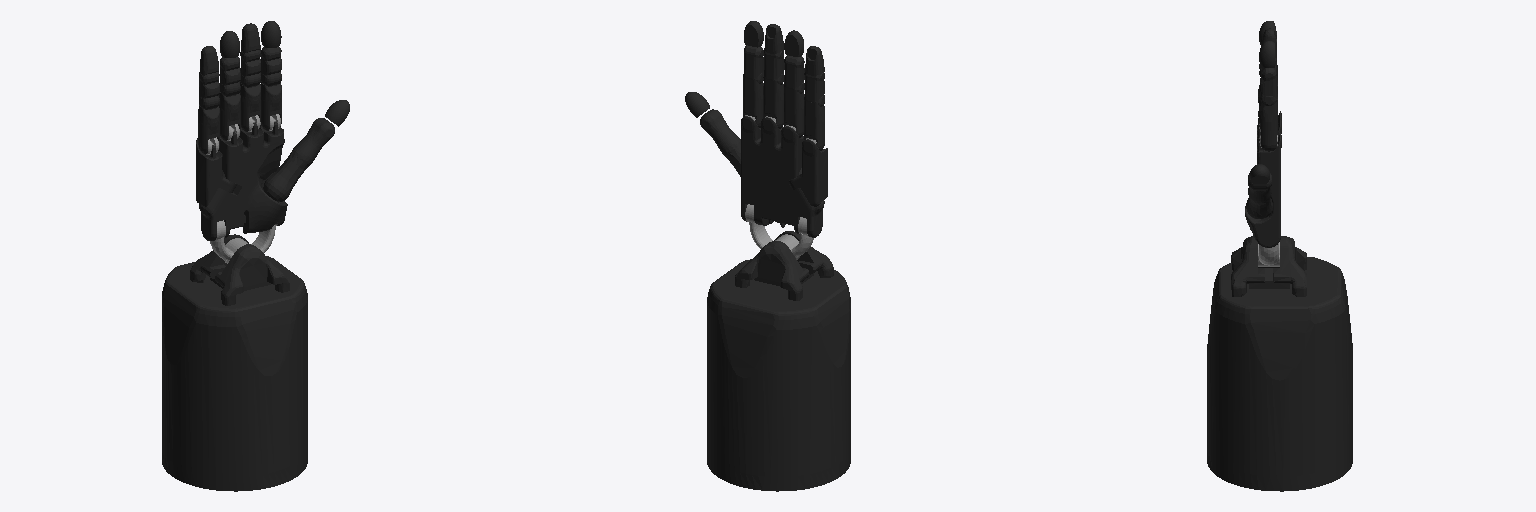
--- Facts derived from the render (not from the file) ---
Views: 3 orthographic renders of the robot side by side, from view 1: azimuth 30°, elevation 25°; view 2: azimuth 150°, elevation 25°; view 3: azimuth 270°, elevation 25°.
Robot: shadowhand — 30 links, 29 joints (24 revolute, 5 fixed); root link forearm; default pose: every joint at zero.
Visible links, largest first — view 1: forearm, palm, lfmetacarpal, thproximal, thmiddle, wrist, lfproximal, ffproximal, rfproximal, ffmiddle, rfmiddle, mfproximal (+2 smaller); view 2: forearm, palm, lfmetacarpal, wrist, thmiddle, lfproximal, mfproximal, rfproximal, ffproximal, rfmiddle, ffmiddle, mfmiddle (+1 smaller); view 3: forearm, palm, ffproximal, ffmiddle.
Boxes of the visible links, x1=… form: forearm: x1=162, y1=234, x2=307, y2=491; palm: x1=199, y1=122, x2=287, y2=240; lfmetacarpal: x1=196, y1=138, x2=236, y2=206; thproximal: x1=263, y1=150, x2=308, y2=202; thmiddle: x1=293, y1=118, x2=334, y2=165; wrist: x1=210, y1=220, x2=277, y2=263; lfproximal: x1=198, y1=105, x2=219, y2=154; ffproximal: x1=260, y1=82, x2=281, y2=130; rfproximal: x1=219, y1=92, x2=240, y2=140; ffmiddle: x1=261, y1=47, x2=281, y2=86; rfmiddle: x1=220, y1=57, x2=240, y2=96; mfproximal: x1=240, y1=82, x2=260, y2=131; forearm: x1=707, y1=231, x2=850, y2=491; palm: x1=741, y1=116, x2=824, y2=237; lfmetacarpal: x1=788, y1=139, x2=827, y2=206; wrist: x1=745, y1=204, x2=813, y2=259; thmiddle: x1=700, y1=109, x2=740, y2=156; lfproximal: x1=804, y1=101, x2=824, y2=150; mfproximal: x1=763, y1=79, x2=783, y2=128; rfproximal: x1=784, y1=87, x2=804, y2=137; ffproximal: x1=743, y1=78, x2=763, y2=127; rfmiddle: x1=784, y1=55, x2=804, y2=93; ffmiddle: x1=743, y1=45, x2=763, y2=83; mfmiddle: x1=763, y1=50, x2=784, y2=84; forearm: x1=1207, y1=236, x2=1352, y2=491; palm: x1=1245, y1=113, x2=1281, y2=247; ffproximal: x1=1258, y1=99, x2=1277, y2=151; ffmiddle: x1=1259, y1=66, x2=1277, y2=105.
Bounding box of the posed robot: 0.1788 × 0.1351 × 0.4454 m (x, y, z).
23 mesh visuals loaded from 11 distinct referenced files (11 Collada DAE).

URDF robot description (shadowhand):
<robot name="shadowhand">
  <material name="Blue">
    <color rgba="0.0 0.0 0.8 1.0" />
  </material>
  <material name="Green">
    <color rgba="0.0 0.8 0.0 1.0" />
  </material>
  <material name="Grey">
    <color rgba="0.2 0.2 0.2 1.0" />
  </material>
  <material name="LightGrey">
    <color rgba="0.6 0.6 0.6 1.0" />
  </material>
  <material name="Red">
    <color rgba="0.8 0.0 0.0 1.0" />
  </material>
  <material name="White">
    <color rgba="1.0 1.0 1.0 1.0" />
  </material>
  <link name="forearm">
    <inertial>
      <origin rpy="0 0 0" xyz="0 0 0.09" />
      <mass value="3.0" />
      <inertia ixx="1.0" ixy="0.0" ixz="0.0" iyy="1.0" iyz="0.0" izz="1.0" />
    </inertial>
    <visual>
      <origin rpy="0 0 0" xyz="0 0 0" />
      <geometry name="shadow_forearm_geom">
        <mesh filename="package://sr_grasp_description/meshes/forearm.dae" scale="0.1 0.1 0.1" />
      </geometry>
      <material name="Grey" />
    </visual>
    <collision>
      <origin rpy="0 0 0" xyz="0 0 0.09" />
      <geometry name="shadow_forearm_collision">
        <cylinder length="0.180" radius="0.06" />
      </geometry>
    </collision>
  </link>
  <link name="wrist">
    <inertial>
      <origin rpy="0 0 0" xyz="0 0.0 0.0" />

      <mass value="0.1" />
      <inertia ixx="0.120" ixy="0.0" ixz="0.0" iyy="0.148" iyz="0.0" izz="0.0438" />
    </inertial>
    <visual>
      <origin rpy="0 0 0" xyz="0 0 0" />
      <geometry name="wrist_visual">
        <mesh filename="package://sr_grasp_description/meshes/wrist.dae" scale="0.1 0.1 0.1" />
      </geometry>
      <material name="LightGrey" />
    </visual>
    <collision>
      <origin rpy="0 0 0" xyz="0 0 0" />
      <geometry name="wrist_collision_geom">
        <box size="0.02 0.02 0.02" />
      </geometry>
    </collision>
  </link>
  <joint name="WRJ2" type="revolute">
    <parent link="forearm" />
    <child link="wrist" />

    <origin rpy="0 0 0" xyz="0 -0.010 0.213" />
    <axis xyz="0 1 0" />
    <limit effort="5" lower="-0.52359877559829882" upper="0.17453292519943295" velocity="1.0" />
    <dynamics damping="100.5" />
  </joint>
  <link name="palm">
    <inertial>
      <origin rpy="0 0 0" xyz="0 0 0.035" />
      <mass value="0.3" />
      <inertia ixx="0.5" ixy="0.0" ixz="0.0" iyy="0.5" iyz="0.0" izz="0.3" />
    </inertial>
    <visual>
      <origin rpy="0 0 0" xyz="0 0 0" />
      <geometry name="palm_visual">
        <mesh filename="package://sr_grasp_description/meshes/palm.dae" scale="0.1 0.1 0.1" />
      </geometry>
      <material name="Grey" />
    </visual>
    <collision>
      <origin rpy="0 0 0" xyz="0.005 0 0.035" />
      <geometry name="palm_collision_geom">
        <box size="0.05 0.02 0.07" />
      </geometry>
    </collision>
  </link>
  <joint name="WRJ1" type="revolute">
    <parent link="wrist" />
    <child link="palm" />
    <origin rpy="0 0 0" xyz="0 0 0.034" />
    <axis xyz="1 0 0" />
    <limit effort="5" lower="-0.78539816339744828" upper="0.6108652381980153" velocity="1.0" />
    <dynamics damping="100.5" />
  </joint>
  <link name="ffknuckle">
    <inertial>
      <origin rpy="0 0 0" xyz="0 0 0" />

      <mass value="0.008" />
      <inertia ixx="0.0" ixy="0.0" ixz="0.0" iyy="0.1" iyz="0.0" izz="0.0" />
    </inertial>
    <visual>
      <origin rpy="0 0 0" xyz="0 0 0.0005" />
      <geometry name="knuckle_visual">
        <mesh filename="package://sr_grasp_description/meshes/knuckle.dae" scale="0.1 0.1 0.1" />
      </geometry>
      <material name="LightGrey" />
    </visual>
    <collision>
      <origin rpy="0 0 0" xyz="0 0 0" />
      <geometry name="knuckle_collision_geom">
        <box size="0.005 0.005 0.005" />
      </geometry>
    </collision>
  </link>
  <joint name="FFJ4" type="revolute">
    <parent link="palm" />
    <child link="ffknuckle" />

    <origin rpy="0 0 0" xyz="0.033 0 0.095" />
    <axis xyz="0 -1 0" />
    <limit effort="100" lower="-0.43633231299858238" upper="0.43633231299858238" velocity="1.0" />
    <dynamics damping="50.5" />
  </joint>
  <link name="ffproximal">
    <inertial>
      <mass value="0.014" />
      <origin xyz="0 0 0.0225" />
      <inertia ixx="0.1" ixy="0.0" ixz="0.0" iyy="0.1" iyz="0.0" izz="0.0" />
    </inertial>
    <visual>
      <origin rpy="0 0 0" xyz="0 0 0" />
      <geometry name="proximal_visual">
        <mesh filename="package://sr_grasp_description/meshes/F3.dae" scale="0.1 0.1 0.1" />
      </geometry>
      <material name="Grey" />
    </visual>
    <collision>
      <origin rpy="0 0 0 " xyz="0 0 0.025" />
      <geometry name="proximal_collision_geom">
        <box size="0.008 0.008 0.04" />
      </geometry>
    </collision>
  </link>
  <joint name="FFJ3" type="revolute">
    <parent link="ffknuckle" />
    <child link="ffproximal" />
    <origin rpy="0 0 0" xyz="0 0 0" />
    <axis xyz="1 0 0" />
    <limit effort="100" lower="0" upper="1.57079632679" velocity="1.0" />
    <dynamics damping="50.5" />
  </joint>
  <link name="ffmiddle">
    <inertial>
      <origin rpy="0 0 0" xyz="0 0 0.0125" />
      <mass value="0.012" />
      <inertia ixx="0.1" ixy="0.0" ixz="0.0" iyy="0.1" iyz="0.0" izz="0.0" />
    </inertial>
    <visual>
      <origin rpy="0 0 0" xyz="0 0 0" />
      <geometry name="middle_visual">
        <mesh filename="package://sr_grasp_description/meshes/F2.dae" scale="0.1 0.1 0.1" />
      </geometry>
      <material name="Grey" />
    </visual>
    <collision>
      <origin rpy="0 0 0" xyz="0 0 0.0125" />
      <geometry name="middle_collision_geom">
        <box size="0.008 0.008 0.015" />
      </geometry>
    </collision>
  </link>
  <joint name="FFJ2" type="revolute">
    <parent link="ffproximal" />
    <child link="ffmiddle" />
    <origin rpy="0 0 0" xyz="0 0 0.045" />
    <axis xyz="1 0 0" />
    <limit effort="100" lower="0" upper="1.57079632679" velocity="1.0" />
    <dynamics damping="50.5" />
  </joint>
  <link name="ffdistal">
    <inertial>
      <mass value="0.010" />
      <origin xyz="0 0 0.013" />
      <inertia ixx="0.1" ixy="0.0" ixz="0.0" iyy="0.1" iyz="0.0" izz="0.0" />
    </inertial>
    <visual>
      <origin rpy="0 0 0" xyz="0 0 0" />
      <geometry name="distal_visual">
        <mesh filename="package://sr_grasp_description/meshes/distal_ellipsoid.dae" scale="0.1 0.1 0.1" />
      </geometry>
      <material name="Grey" />
    </visual>

    <collision>
      <origin rpy="0 0 0" xyz="0 0 0" />
      <geometry name="distal_collision_geom">
        <mesh filename="package://sr_grasp_description/meshes/distal_ellipsoid.dae" scale="0.1 0.1 0.1" />
      </geometry>
    </collision>
  </link>
  <joint name="FFJ1" type="revolute">
    <parent link="ffmiddle" />
    <child link="ffdistal" />
    <origin rpy="0 0 0" xyz="0 0 0.025" />
    <axis xyz="1 0 0" />
    <limit effort="100" lower="0" upper="1.57079632679" velocity="1.0" />
    <dynamics damping="50.5" />
  </joint>
  <link name="fftip">
    <inertial>
      <mass value="0.001" />
      <inertia ixx="0.0" ixy="0.0" ixz="0.0" iyy="0.0" iyz="0.0" izz="0.0" />
    </inertial>
  </link>
  <joint name="FFtip" type="fixed">
    <parent link="ffdistal" />
    <child link="fftip" />
    <origin rpy="0 0 0" xyz="0 0 0.026" />
  </joint>
  <link name="mfknuckle">
    <inertial>
      <origin rpy="0 0 0" xyz="0 0 0" />

      <mass value="0.008" />
      <inertia ixx="0.0" ixy="0.0" ixz="0.0" iyy="0.1" iyz="0.0" izz="0.0" />
    </inertial>
    <visual>
      <origin rpy="0 0 0" xyz="0 0 0.0005" />
      <geometry name="knuckle_visual">
        <mesh filename="package://sr_grasp_description/meshes/knuckle.dae" scale="0.1 0.1 0.1" />
      </geometry>
      <material name="LightGrey" />
    </visual>
    <collision>
      <origin rpy="0 0 0" xyz="0 0 0" />
      <geometry name="knuckle_collision_geom">
        <box size="0.005 0.005 0.005" />
      </geometry>
    </collision>
  </link>
  <joint name="MFJ4" type="revolute">
    <parent link="palm" />
    <child link="mfknuckle" />

    <origin rpy="0 0 0" xyz="0.011 0 0.099" />
    <axis xyz="0 -1 0" />
    <limit effort="100" lower="-0.43633231299858238" upper="0.43633231299858238" velocity="1.0" />
    <dynamics damping="50.5" />
  </joint>
  <link name="mfproximal">
    <inertial>
      <mass value="0.014" />
      <origin xyz="0 0 0.0225" />
      <inertia ixx="0.1" ixy="0.0" ixz="0.0" iyy="0.1" iyz="0.0" izz="0.0" />
    </inertial>
    <visual>
      <origin rpy="0 0 0" xyz="0 0 0" />
      <geometry name="proximal_visual">
        <mesh filename="package://sr_grasp_description/meshes/F3.dae" scale="0.1 0.1 0.1" />
      </geometry>
      <material name="Grey" />
    </visual>
    <collision>
      <origin rpy="0 0 0 " xyz="0 0 0.025" />
      <geometry name="proximal_collision_geom">
        <box size="0.008 0.008 0.04" />
      </geometry>
    </collision>
  </link>
  <joint name="MFJ3" type="revolute">
    <parent link="mfknuckle" />
    <child link="mfproximal" />
    <origin rpy="0 0 0" xyz="0 0 0" />
    <axis xyz="1 0 0" />
    <limit effort="100" lower="0" upper="1.57079632679" velocity="1.0" />
    <dynamics damping="50.5" />
  </joint>
  <link name="mfmiddle">
    <inertial>
      <origin rpy="0 0 0" xyz="0 0 0.0125" />
      <mass value="0.012" />
      <inertia ixx="0.1" ixy="0.0" ixz="0.0" iyy="0.1" iyz="0.0" izz="0.0" />
    </inertial>
    <visual>
      <origin rpy="0 0 0" xyz="0 0 0" />
      <geometry name="middle_visual">
        <mesh filename="package://sr_grasp_description/meshes/F2.dae" scale="0.1 0.1 0.1" />
      </geometry>
      <material name="Grey" />
    </visual>
    <collision>
      <origin rpy="0 0 0" xyz="0 0 0.0125" />
      <geometry name="middle_collision_geom">
        <box size="0.008 0.008 0.015" />
      </geometry>
    </collision>
  </link>
  <joint name="MFJ2" type="revolute">
    <parent link="mfproximal" />
    <child link="mfmiddle" />
    <origin rpy="0 0 0" xyz="0 0 0.045" />
    <axis xyz="1 0 0" />
    <limit effort="100" lower="0" upper="1.57079632679" velocity="1.0" />
    <dynamics damping="50.5" />
  </joint>
  <link name="mfdistal">
    <inertial>
      <mass value="0.010" />
      <origin xyz="0 0 0.013" />
      <inertia ixx="0.1" ixy="0.0" ixz="0.0" iyy="0.1" iyz="0.0" izz="0.0" />
    </inertial>
    <visual>
      <origin rpy="0 0 0" xyz="0 0 0" />
      <geometry name="distal_visual">
        <mesh filename="package://sr_grasp_description/meshes/F1.dae" scale="0.1 0.1 0.1" />
      </geometry>
      <material name="Grey" />
    </visual>

    <collision>
      <origin rpy="0 0 0" xyz="0 0 0" />
      <geometry name="distal_collision_geom">
        <mesh filename="package://sr_grasp_description/meshes/F1.dae" scale="0.1 0.1 0.1" />
      </geometry>
    </collision>
  </link>
  <joint name="MFJ1" type="revolute">
    <parent link="mfmiddle" />
    <child link="mfdistal" />
    <origin rpy="0 0 0" xyz="0 0 0.025" />
    <axis xyz="1 0 0" />
    <limit effort="100" lower="0" upper="1.57079632679" velocity="1.0" />
    <dynamics damping="50.5" />
  </joint>
  <link name="mftip">
    <inertial>
      <mass value="0.001" />
      <inertia ixx="0.0" ixy="0.0" ixz="0.0" iyy="0.0" iyz="0.0" izz="0.0" />
    </inertial>
  </link>
  <joint name="MFtip" type="fixed">
    <parent link="mfdistal" />
    <child link="mftip" />
    <origin rpy="0 0 0" xyz="0 0 0.026" />
  </joint>
  <link name="rfknuckle">
    <inertial>
      <origin rpy="0 0 0" xyz="0 0 0" />

      <mass value="0.008" />
      <inertia ixx="0.0" ixy="0.0" ixz="0.0" iyy="0.1" iyz="0.0" izz="0.0" />
    </inertial>
    <visual>
      <origin rpy="0 0 0" xyz="0 0 0.0005" />
      <geometry name="knuckle_visual">
        <mesh filename="package://sr_grasp_description/meshes/knuckle.dae" scale="0.1 0.1 0.1" />
      </geometry>
      <material name="LightGrey" />
    </visual>
    <collision>
      <origin rpy="0 0 0" xyz="0 0 0" />
      <geometry name="knuckle_collision_geom">
        <box size="0.005 0.005 0.005" />
      </geometry>
    </collision>
  </link>
  <joint name="RFJ4" type="revolute">
    <parent link="palm" />
    <child link="rfknuckle" />

    <origin rpy="0 0 0" xyz="-0.011 0 0.095" />
    <axis xyz="0 1 0" />
    <limit effort="100" lower="-0.43633231299858238" upper="0.43633231299858238" velocity="1.0" />
    <dynamics damping="50.5" />
  </joint>
  <link name="rfproximal">
    <inertial>
      <mass value="0.014" />
      <origin xyz="0 0 0.0225" />
      <inertia ixx="0.1" ixy="0.0" ixz="0.0" iyy="0.1" iyz="0.0" izz="0.0" />
    </inertial>
    <visual>
      <origin rpy="0 0 0" xyz="0 0 0" />
      <geometry name="proximal_visual">
        <mesh filename="package://sr_grasp_description/meshes/F3.dae" scale="0.1 0.1 0.1" />
      </geometry>
      <material name="Grey" />
    </visual>
    <collision>
      <origin rpy="0 0 0 " xyz="0 0 0.025" />
      <geometry name="proximal_collision_geom">
        <box size="0.008 0.008 0.04" />
      </geometry>
    </collision>
  </link>
  <joint name="RFJ3" type="revolute">
    <parent link="rfknuckle" />
    <child link="rfproximal" />
    <origin rpy="0 0 0" xyz="0 0 0" />
    <axis xyz="1 0 0" />
    <limit effort="100" lower="0" upper="1.57079632679" velocity="1.0" />
    <dynamics damping="50.5" />
  </joint>
  <link name="rfmiddle">
    <inertial>
      <origin rpy="0 0 0" xyz="0 0 0.0125" />
      <mass value="0.012" />
      <inertia ixx="0.1" ixy="0.0" ixz="0.0" iyy="0.1" iyz="0.0" izz="0.0" />
    </inertial>
    <visual>
      <origin rpy="0 0 0" xyz="0 0 0" />
      <geometry name="middle_visual">
        <mesh filename="package://sr_grasp_description/meshes/F2.dae" scale="0.1 0.1 0.1" />
      </geometry>
      <material name="Grey" />
    </visual>
    <collision>
      <origin rpy="0 0 0" xyz="0 0 0.0125" />
      <geometry name="middle_collision_geom">
        <box size="0.008 0.008 0.015" />
      </geometry>
    </collision>
  </link>
  <joint name="RFJ2" type="revolute">
    <parent link="rfproximal" />
    <child link="rfmiddle" />
    <origin rpy="0 0 0" xyz="0 0 0.045" />
    <axis xyz="1 0 0" />
    <limit effort="100" lower="0" upper="1.57079632679" velocity="1.0" />
    <dynamics damping="50.5" />
  </joint>
  <link name="rfdistal">
    <inertial>
      <mass value="0.010" />
      <origin xyz="0 0 0.013" />
      <inertia ixx="0.1" ixy="0.0" ixz="0.0" iyy="0.1" iyz="0.0" izz="0.0" />
    </inertial>
    <visual>
      <origin rpy="0 0 0" xyz="0 0 0" />
      <geometry name="distal_visual">
        <mesh filename="package://sr_grasp_description/meshes/distal_ellipsoid.dae" scale="0.1 0.1 0.1" />
      </geometry>
      <material name="Grey" />
    </visual>

    <collision>
      <origin rpy="0 0 0" xyz="0 0 0" />
      <geometry name="distal_collision_geom">
        <mesh filename="package://sr_grasp_description/meshes/distal_ellipsoid.dae" scale="0.1 0.1 0.1" />
      </geometry>
    </collision>
  </link>
  <joint name="RFJ1" type="revolute">
    <parent link="rfmiddle" />
    <child link="rfdistal" />
    <origin rpy="0 0 0" xyz="0 0 0.025" />
    <axis xyz="1 0 0" />
    <limit effort="100" lower="0" upper="1.57079632679" velocity="1.0" />
    <dynamics damping="50.5" />
  </joint>
  <link name="rftip">
    <inertial>
      <mass value="0.001" />
      <inertia ixx="0.0" ixy="0.0" ixz="0.0" iyy="0.0" iyz="0.0" izz="0.0" />
    </inertial>
  </link>
  <joint name="RFtip" type="fixed">
    <parent link="rfdistal" />
    <child link="rftip" />
    <origin rpy="0 0 0" xyz="0 0 0.026" />
  </joint>
  <link name="lfmetacarpal">
    <inertial>
      <origin rpy="0 0 0" xyz="0 0 0.04" />
      <mass value="0.075" />
      <inertia ixx="0.1" ixy="0.0" ixz="0.0" iyy="0.1" iyz="0.0" izz="0.1" />
    </inertial>
    <visual>
      <origin rpy="0 0 0" xyz="0 0 0" />
      <geometry name="lfmetacarpal_visual">
        <mesh filename="package://sr_grasp_description/meshes/lfmetacarpal.dae" scale="0.1 0.1 0.1" />
      </geometry>
      <material name="Grey" />
    </visual>
    <collision>
      <origin rpy="0 0 0" xyz="0 0 0.04" />
      <geometry name="lfmetacarpal_collision_geom">
        <box size="0.008 0.008 0.03" />
      </geometry>
    </collision>
  </link>
  <joint name="LFJ5" type="revolute">
    <parent link="palm" />
    <child link="lfmetacarpal" />
    <origin rpy="0 0 0" xyz="-0.033 0 0.02071" />
    <axis xyz="0.573576436 0 0.819152044" />
    <limit effort="100" lower="0" upper="0.69813170079773179" velocity="1.0" />
    <dynamics damping="50.5" />
  </joint>
  <link name="lfknuckle">
    <inertial>
      <origin rpy="0 0 0" xyz="0 0 0.06579" />
      <mass value="0.008" />
      <inertia ixx="0.1" ixy="0.0" ixz="0.0" iyy="0.1" iyz="0.0" izz="0.1" />
    </inertial>
    <visual>
      <origin rpy="0 0 0" xyz="0 0 0" />
      <geometry name="knuckle_visual">
        <mesh filename="package://sr_grasp_description/meshes/knuckle.dae" scale="0.1 0.1 0.1" />
      </geometry>
      <material name="LightGrey" />
    </visual>
    <collision>
      <origin rpy="0 0 0" xyz="0 0 0" />
      <geometry name="knuckle_collision_geom">
        <box size="0.005 0.005 0.005" />
      </geometry>
    </collision>
  </link>
  <joint name="LFJ4" type="revolute">
    <parent link="lfmetacarpal" />
    <child link="lfknuckle" />
    <origin rpy="0 0 0" xyz="0 0 0.06579" />
    <axis xyz="0 1 0" />
    <limit effort="100" lower="-0.43633231299858238" upper="0.43633231299858238" velocity="1.0" />
    <dynamics damping="50.5" />
  </joint>
  <link name="lfproximal">
    <inertial>
      <mass value="0.014" />
      <origin xyz="0 0 0.0225" />
      <inertia ixx="0.1" ixy="0.0" ixz="0.0" iyy="0.1" iyz="0.0" izz="0.0" />
    </inertial>
    <visual>
      <origin rpy="0 0 0" xyz="0 0 0" />
      <geometry name="proximal_visual">
        <mesh filename="package://sr_grasp_description/meshes/F3.dae" scale="0.1 0.1 0.1" />
      </geometry>
      <material name="Grey" />
    </visual>
    <collision>
      <origin rpy="0 0 0 " xyz="0 0 0.025" />
      <geometry name="proximal_collision_geom">
        <box size="0.008 0.008 0.04" />
      </geometry>
    </collision>
  </link>
  <joint name="LFJ3" type="revolute">
    <parent link="lfknuckle" />
    <child link="lfproximal" />
    <origin rpy="0 0 0" xyz="0 0 0" />
    <axis xyz="1 0 0" />
    <limit effort="100" lower="0" upper="1.57079632679" velocity="1.0" />
    <dynamics damping="50.5" />
  </joint>
  <link name="lfmiddle">
    <inertial>
      <origin rpy="0 0 0" xyz="0 0 0.0125" />
      <mass value="0.012" />
      <inertia ixx="0.1" ixy="0.0" ixz="0.0" iyy="0.1" iyz="0.0" izz="0.0" />
    </inertial>
    <visual>
      <origin rpy="0 0 0" xyz="0 0 0" />
      <geometry name="middle_visual">
        <mesh filename="package://sr_grasp_description/meshes/F2.dae" scale="0.1 0.1 0.1" />
      </geometry>
      <material name="Grey" />
    </visual>
    <collision>
      <origin rpy="0 0 0" xyz="0 0 0.0125" />
      <geometry name="middle_collision_geom">
        <box size="0.008 0.008 0.015" />
      </geometry>
    </collision>
  </link>
  <joint name="LFJ2" type="revolute">
    <parent link="lfproximal" />
    <child link="lfmiddle" />
    <origin rpy="0 0 0" xyz="0 0 0.045" />
    <axis xyz="1 0 0" />
    <limit effort="100" lower="0" upper="1.57079632679" velocity="1.0" />
    <dynamics damping="50.5" />
  </joint>
  <link name="lfdistal">
    <inertial>
      <mass value="0.010" />
      <origin xyz="0 0 0.013" />
      <inertia ixx="0.1" ixy="0.0" ixz="0.0" iyy="0.1" iyz="0.0" izz="0.0" />
    </inertial>
    <visual>
      <origin rpy="0 0 0" xyz="0 0 0" />
      <geometry name="distal_visual">
        <mesh filename="package://sr_grasp_description/meshes/F1.dae" scale="0.1 0.1 0.1" />
      </geometry>
      <material name="Grey" />
    </visual>

    <collision>
      <origin rpy="0 0 0" xyz="0 0 0" />
      <geometry name="distal_collision_geom">
        <mesh filename="package://sr_grasp_description/meshes/F1.dae" scale="0.1 0.1 0.1" />
      </geometry>
    </collision>
  </link>
  <joint name="LFJ1" type="revolute">
    <parent link="lfmiddle" />
    <child link="lfdistal" />
    <origin rpy="0 0 0" xyz="0 0 0.025" />
    <axis xyz="1 0 0" />
    <limit effort="100" lower="0" upper="1.57079632679" velocity="1.0" />
    <dynamics damping="50.5" />
  </joint>
  <link name="lftip">
    <inertial>
      <mass value="0.001" />
      <inertia ixx="0.0" ixy="0.0" ixz="0.0" iyy="0.0" iyz="0.0" izz="0.0" />
    </inertial>
  </link>
  <joint name="LFtip" type="fixed">
    <parent link="lfdistal" />
    <child link="lftip" />
    <origin rpy="0 0 0" xyz="0 0 0.026" />
  </joint>
  <link name="thbase">
    <inertial>
      <mass value="0.010" />
      <origin rpy="0 0 0" xyz="0 0 0" />
      <inertia ixx="0.0" ixy="0.0" ixz="0.0" iyy="0.0" iyz="0.0" izz="0.1" />
    </inertial>
    <visual>
      <origin rpy="0 0 0" xyz="0 0 0" />
      <geometry name="thbase_visual">
        <box size="0.001 0.001 0.001" />
      </geometry>
      <material name="shadow_thbase_material">
        <color rgba="0.5 0.5 0.5 1.0" />
      </material>
    </visual>
    <collision>
      <origin rpy="0 0 0 " xyz="0 0 0" />
      <geometry name="thbase_collision_geom">
        <box size="0.001 0.001 0.001" />
      </geometry>
    </collision>
  </link>
  <joint name="THJ5" type="revolute">
    <parent link="palm" />
    <child link="thbase" />
    <origin rpy="0 0.785398163397 0" xyz="0.034 -0.0085 0.029" />
    <axis xyz="0 0 -1.0" />
    <limit effort="100" lower="-1.047" upper="1.047" velocity="1.0" />
    <dynamics damping="50.5" />
  </joint>
  <link name="thproximal">
    <inertial>
      <mass value="0.016" />
      <origin rpy="0 0 0" xyz="0 0 0.019" />
      <inertia ixx="0.1" ixy="0.0" ixz="0.0" iyy="0.1" iyz="0.0" izz="0.1" />
    </inertial>
    <visual>
      <origin rpy="0 0 0" xyz="0 0 0" />
      <geometry name="thproximal_visual">
        <mesh filename="package://sr_grasp_description/meshes/TH3_z.dae" scale="0.1 0.1 0.1" />
      </geometry>
      <material name="shadow_thproximal_material">
        <color rgba="0.2 0.2 0.2 1.0" />
      </material>
    </visual>
    <collision>
      <origin rpy="0 0 0" xyz="0 0 0.019" />
      <geometry name="thproximal_collision_geom">
        <box size="0.008 0.008 0.020" />
      </geometry>
    </collision>
  </link>
  <joint name="THJ4" type="revolute">
    <parent link="thbase" />
    <child link="thproximal" />
    <origin rpy="0 0 0" xyz="0 0 0" />
    <axis xyz="1.0 0 0" />
    <limit effort="100" lower="0" upper="1.309" velocity="1.0" />
    <dynamics damping="50.5" />
  </joint>
  <link name="thhub">
    <inertial>
      <mass value="0.002" />
      <origin rpy="0 0 0" xyz="0 0 0" />
      <inertia ixx="0.1" ixy="0.0" ixz="0.0" iyy="0.1" iyz="0.0" izz="0.1" />
    </inertial>
    <visual>
      <origin rpy="0 0 0" xyz="0 0 0" />
      <geometry name="thhub_visual">
        <box size="0.001 0.001 0.001" />
      </geometry>
      <material name="shadow_thhub_material">
        <color rgba="0.7 0.7 0.7 1.0" />
      </material>
    </visual>
    <collision>
      <origin rpy="0 0 0 " xyz="0 0 0" />
      <geometry name="thhub_collision_geom">
        <box size="0.001 0.001 0.001" />
      </geometry>
    </collision>
  </link>
  <joint name="THJ3" type="revolute">
    <parent link="thproximal" />
    <child link="thhub" />
    <origin rpy="0 0 0" xyz="0 0 0.038" />
    <axis xyz="1 0 0" />
    <limit effort="100" lower="-0.2618" upper="0.2618" velocity="1.0" />
    <dynamics damping="50.5" />
  </joint>
  <link name="thmiddle">
    <inertial>
      <mass value="0.016" />
      <origin rpy="0 0 0" xyz="0 0 0.016" />
      <inertia ixx="0.1" ixy="0.0" ixz="0.0" iyy="0.1" iyz="0.0" izz="0.1" />
    </inertial>
    <visual>
      <origin rpy="0 0 0" xyz="0 0 0" />
      <geometry name="thmiddle_visual">
        <mesh filename="package://sr_grasp_description/meshes/TH2_z.dae" scale="0.1 0.1 0.1" />
      </geometry>
      <material name="shadow_thmiddle_material">
        <color rgba="0.2 0.2 0.2 1.0" />
      </material>
    </visual>
    <collision>
      <origin rpy="0 0 0 " xyz="0 0 0.016" />
      <geometry name="thmiddle_collision_geom">
        <box size="0.008 0.008 0.015" />
      </geometry>
    </collision>
  </link>
  <joint name="THJ2" type="revolute">
    <parent link="thhub" />
    <child link="thmiddle" />
    <origin rpy="0 0 0" xyz="0 0 0" />
    <axis xyz="0 -1 0" />
    <limit effort="100" lower="-0.5237" upper="0.5237" velocity="1.0" />
    <dynamics damping="50.5" />
  </joint>
  <link name="thdistal">
    <inertial>
      <mass value="0.016" />
      <origin rpy="0 0 0" xyz="0 0 0.01375" />
      <inertia ixx="0.1" ixy="0.0" ixz="0.0" iyy="0.1" iyz="0.0" izz="0.1" />
    </inertial>
    <visual>
      <origin rpy="0 0 0" xyz="0 0.002 0.0025" />
      <geometry name="thdistal_visual">
        <mesh filename="package://sr_grasp_description/meshes/distal_ellipsoid.dae" scale="0.1 0.1 0.1" />
      </geometry>
      <material name="shadow_thmiddle_material">
        <color rgba="0.2 0.2 0.2 1.0" />
      </material>
    </visual>
    <collision>
      <origin rpy="0 0 0 " xyz="0 0.002 0.0025" />
      <geometry name="thmiddle_collision_geom">
        <mesh filename="package://sr_grasp_description/meshes/distal_ellipsoid.dae" scale="0.1 0.1 0.1" />
      </geometry>
    </collision>
  </link>
  <joint name="THJ1" type="revolute">
    <parent link="thmiddle" />
    <child link="thdistal" />
    <origin rpy="0 0 -1.570796327" xyz="0 0 0.032" />
    <axis xyz="1 0 0" />
    <limit effort="100" lower="0" upper="1.571" velocity="1.0" />
    <dynamics damping="50.5" />
  </joint>
  <link name="thtip">
    <inertial>
      <mass value="0.001" />
      <inertia ixx="0.0" ixy="0.0" ixz="0.0" iyy="0.0" iyz="0.0" izz="0.0" />
    </inertial>
  </link>
  <joint name="thtip" type="fixed">
    <parent link="thdistal" />
    <child link="thtip" />
    <origin rpy="0 0 0" xyz="0 0 0.0275" />
  </joint>
  </robot>
